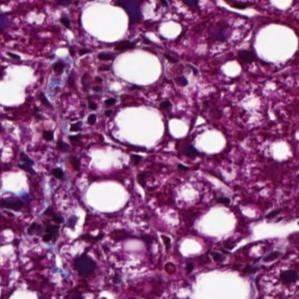inflammation: (17, 125, 86, 178), (66, 36, 142, 73), (70, 94, 123, 139), (175, 142, 205, 180), (70, 252, 100, 280)
